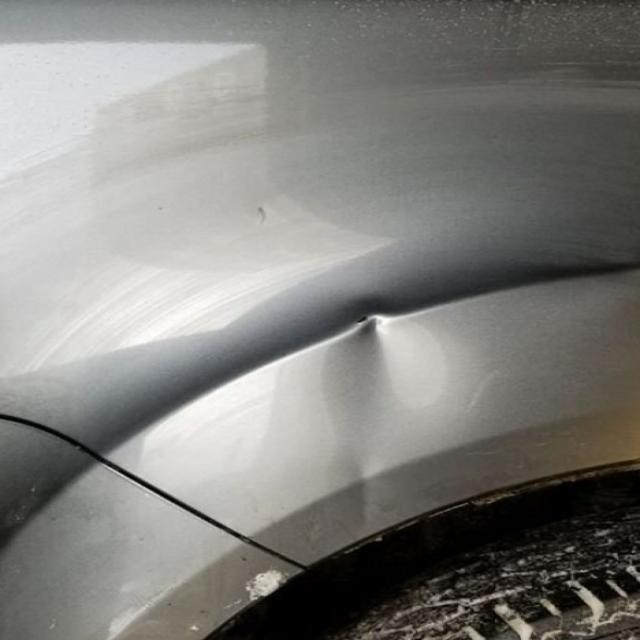dents: (272, 314, 489, 508)
